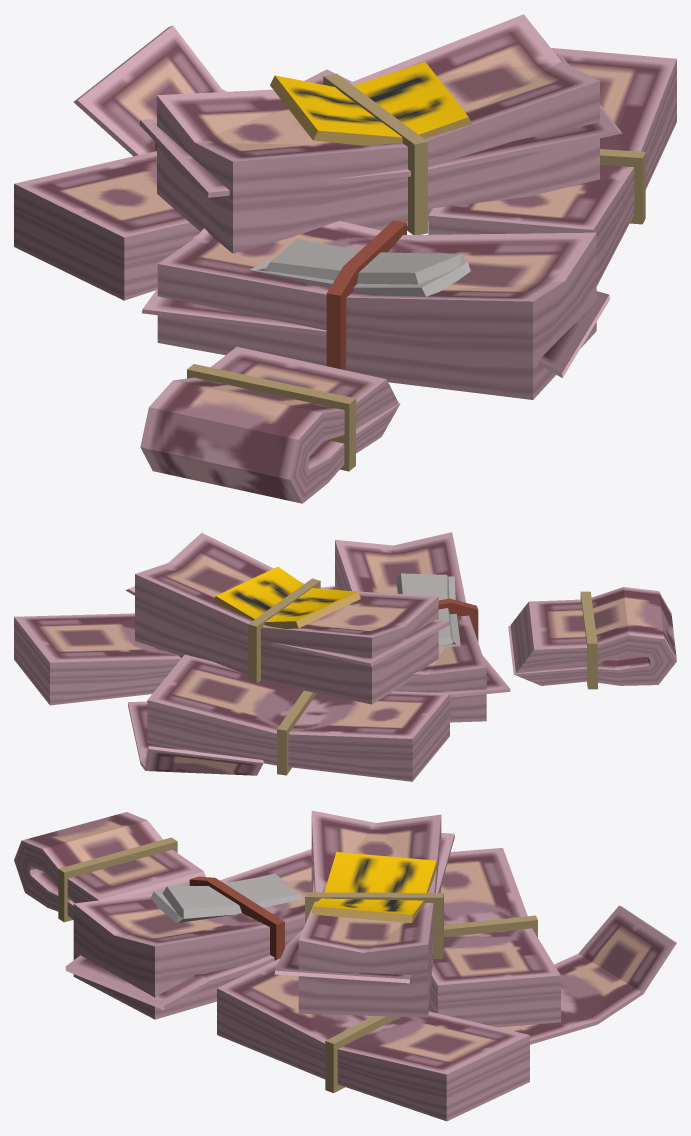
Rendered from SM_Prop_Money_Stack_04.glb.
3 views of the same model, one above another, from view 1: azimuth 30°, elevation 25°; view 2: azimuth 150°, elevation 25°; view 3: azimuth 270°, elevation 25° (orthographic). The views are drawn at different scales.
Parts seen in each view (by area): view 1: SM_Prop_Money_Stack_04; view 2: SM_Prop_Money_Stack_04; view 3: SM_Prop_Money_Stack_04.
Boxes of the visible parts, <box> form: SM_Prop_Money_Stack_04: <box>14,14,676,503</box>; SM_Prop_Money_Stack_04: <box>14,532,676,781</box>; SM_Prop_Money_Stack_04: <box>14,810,676,1121</box>.
Size of the model in its own units: 0.5778 by 0.1253 by 0.5897.
Materials: 1 (1 with a texture image).
